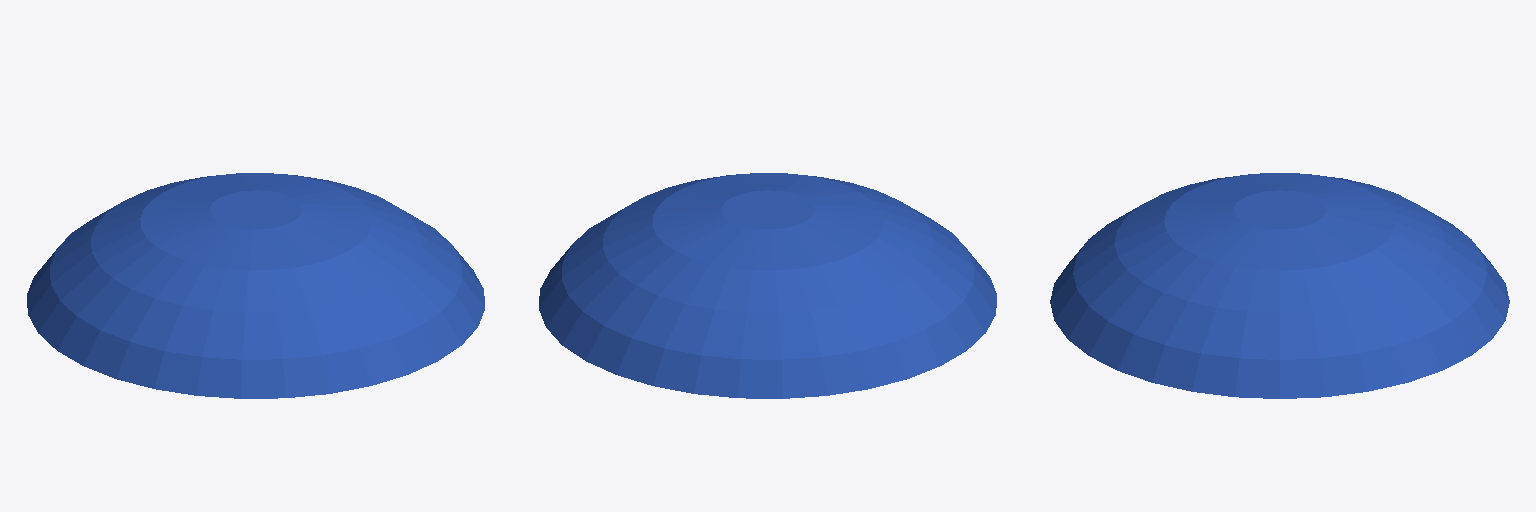
The model's file is meja4-1.obj.
The picture shows the model from 3 angles: view 1: azimuth 30°, elevation 25°; view 2: azimuth 150°, elevation 25°; view 3: azimuth 270°, elevation 25°; orthographic projection.
Parts seen in each view (by area): view 1: Cube.070_Cube.345_Cube.070_Cube.001; view 2: Cube.070_Cube.345_Cube.070_Cube.001; view 3: Cube.070_Cube.345_Cube.070_Cube.001.
Part boxes in pixels (bbox=[...]): Cube.070_Cube.345_Cube.070_Cube.001: bbox=[27, 173, 484, 398]; Cube.070_Cube.345_Cube.070_Cube.001: bbox=[539, 173, 996, 398]; Cube.070_Cube.345_Cube.070_Cube.001: bbox=[1050, 173, 1509, 398].
Bounding box in the file's own units: 0.7724 × 0.1706 × 0.7724.